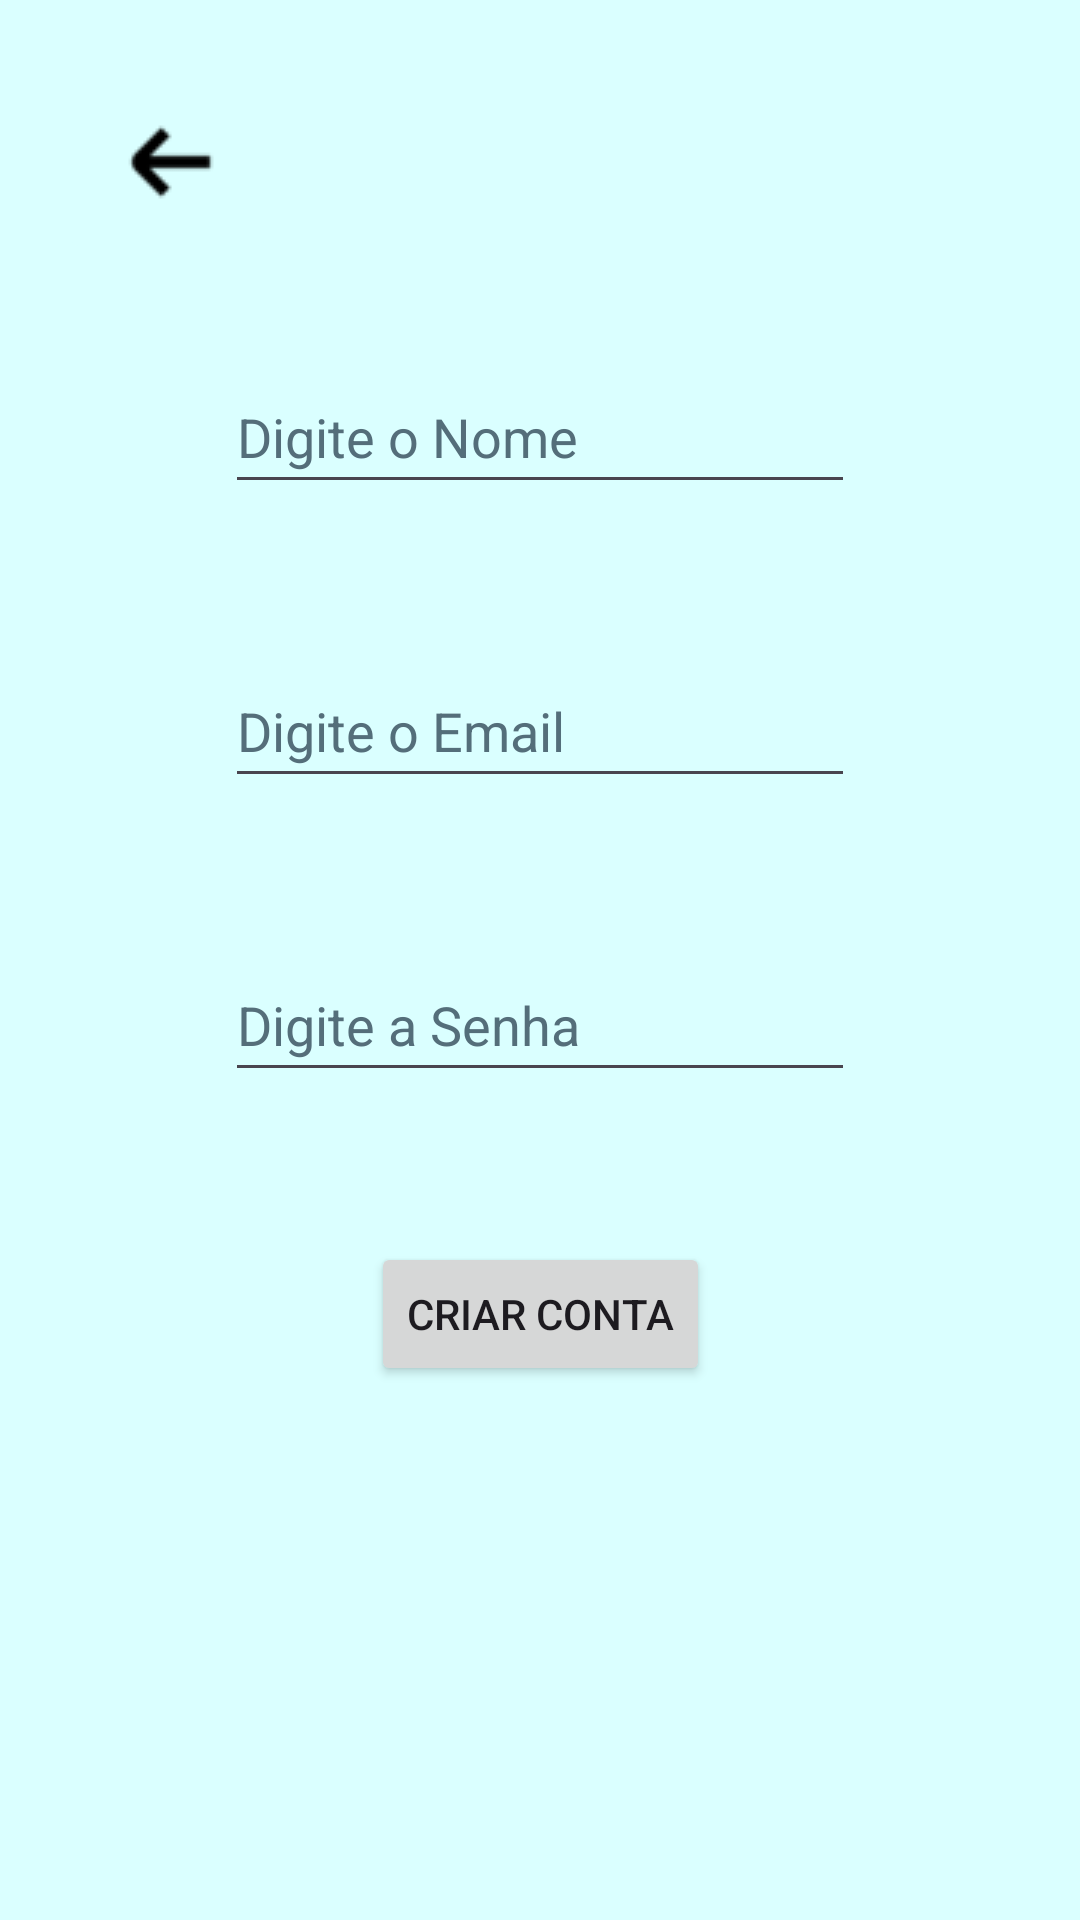

Named icons in this screenshot (1080*1920) and their centers, [x,y]:
Botao para voltar pra tela anterior: [171,162]
